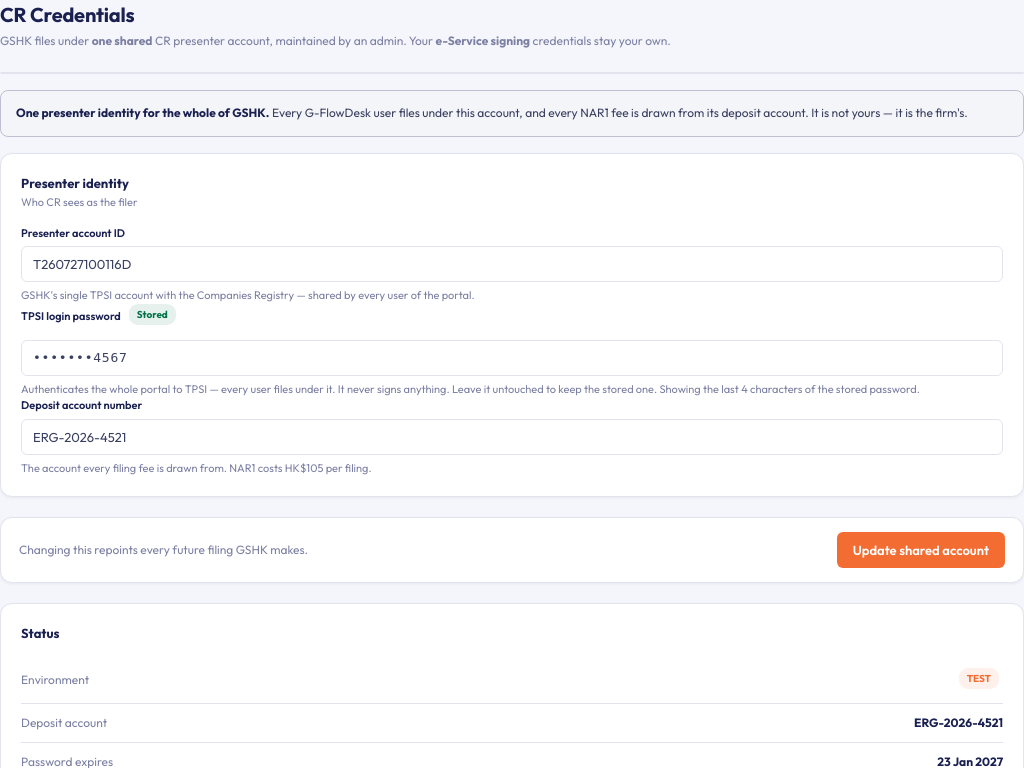
Test: CrCredentialsPage — shared pane › surfaces a server refusal instead of reporting success
Check: the text "CR Credentials" is shown, box [0, 2, 134, 27]
Type "x" into the field labelled "TPSI login password". click: point(512, 358)
box: [21, 340, 1003, 376]
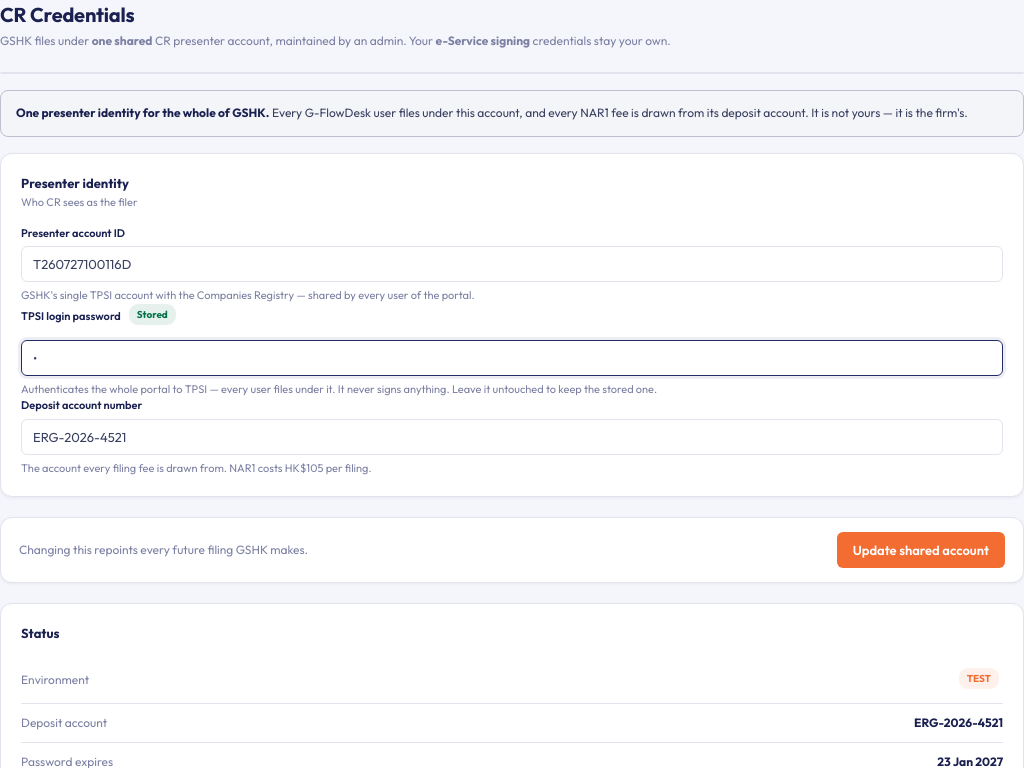
Click the button "Update shared account". click: point(921, 550)
box: [837, 532, 1005, 568]
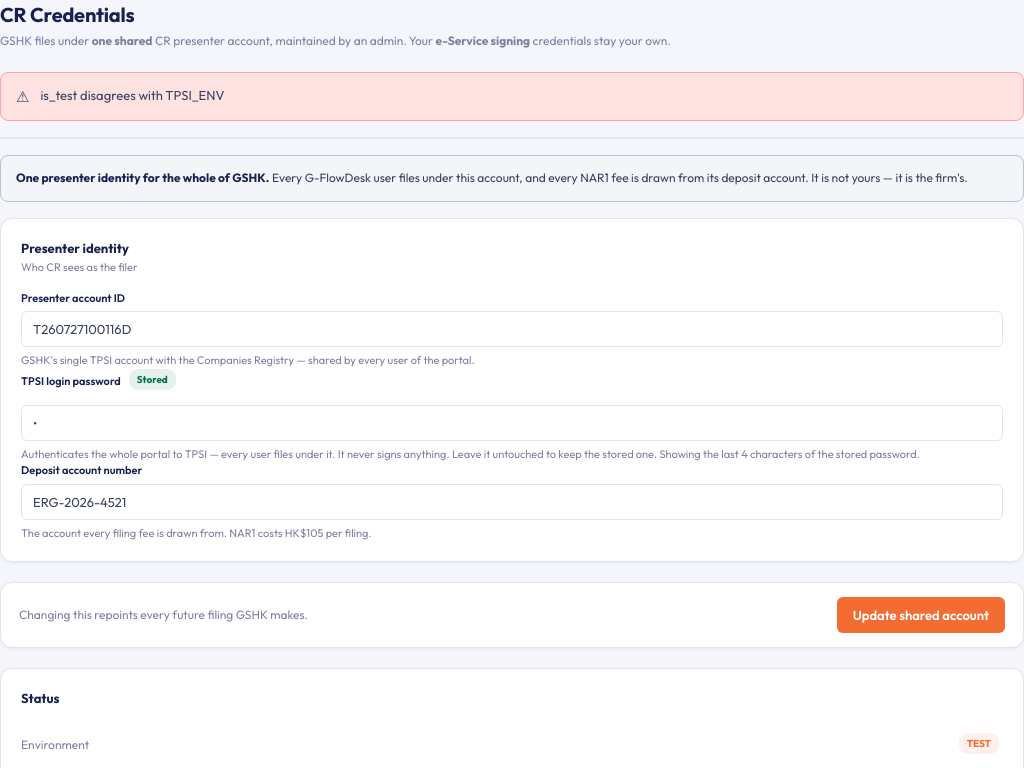
Check: the message shows "is_test disagrees with TPSI_ENV", box [40, 87, 224, 103]
